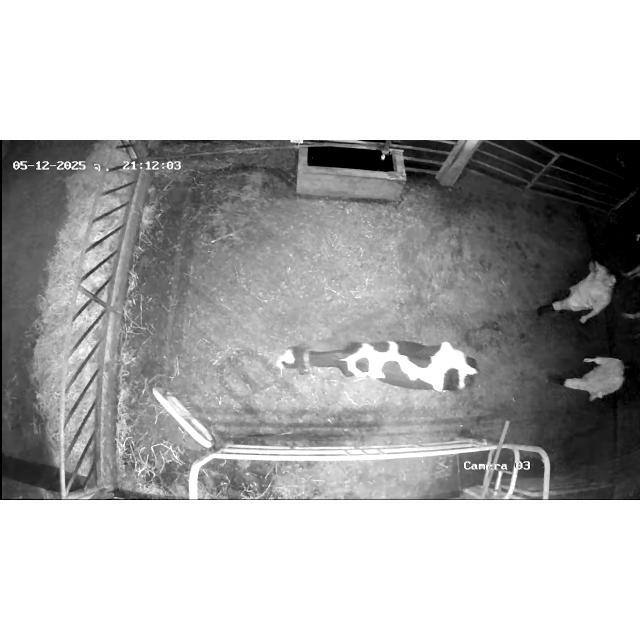stand: (264, 325, 511, 407)
